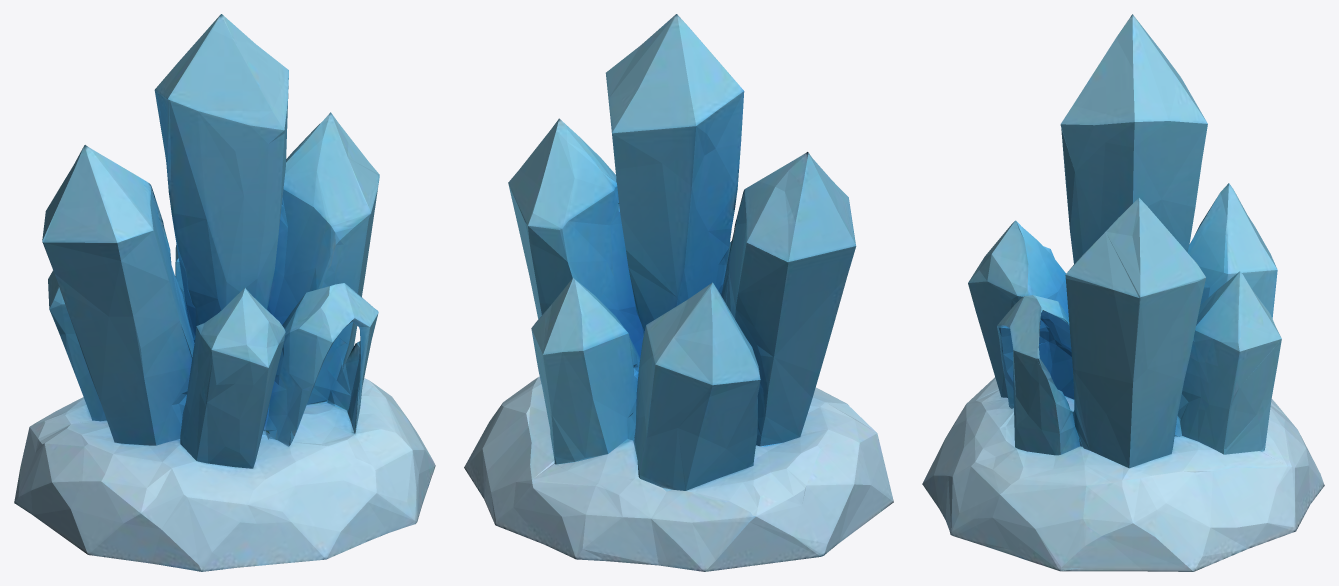
Rendered from d_givre_cristaux.glb.
3 renders of one model, left to right at view 1: azimuth 30°, elevation 25°; view 2: azimuth 150°, elevation 25°; view 3: azimuth 270°, elevation 25°, orthographic.
Parts seen in each view (by area): view 1: geometry_0; view 2: geometry_0; view 3: geometry_0.
Boxes of the visible parts, x1,y1,x2,y2 form: geometry_0: [14, 14, 435, 571]; geometry_0: [464, 14, 893, 571]; geometry_0: [922, 14, 1324, 571].
Size of the model in its own units: 0.7959 by 0.9985 by 0.7744.
1 material, 1 textured.
